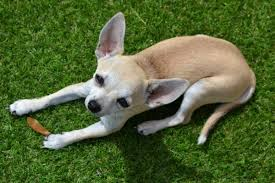chihuahua: (6, 8, 264, 166)
